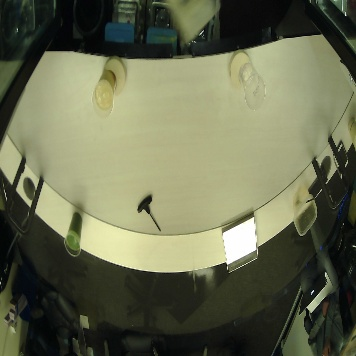empty_cup: (239, 62, 274, 116)
full_cup: (91, 69, 119, 119), (58, 207, 86, 257)
puck: (224, 48, 255, 93), (102, 56, 132, 96)
